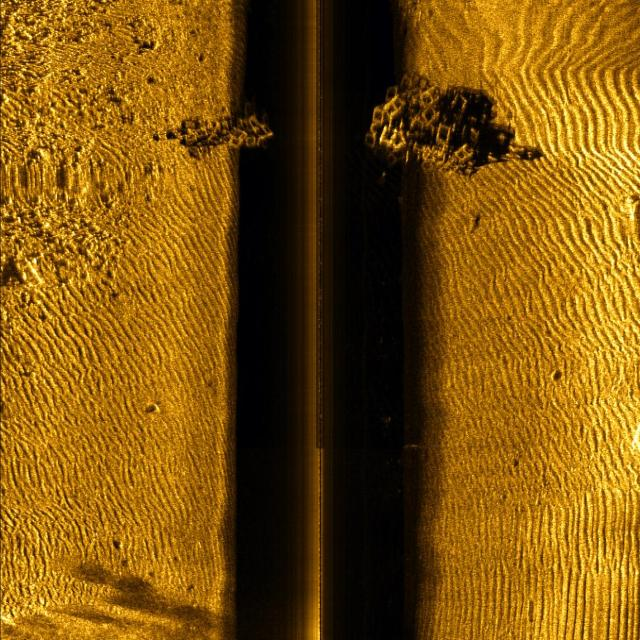artificial reef: (351, 68, 494, 187), (163, 110, 281, 165)
